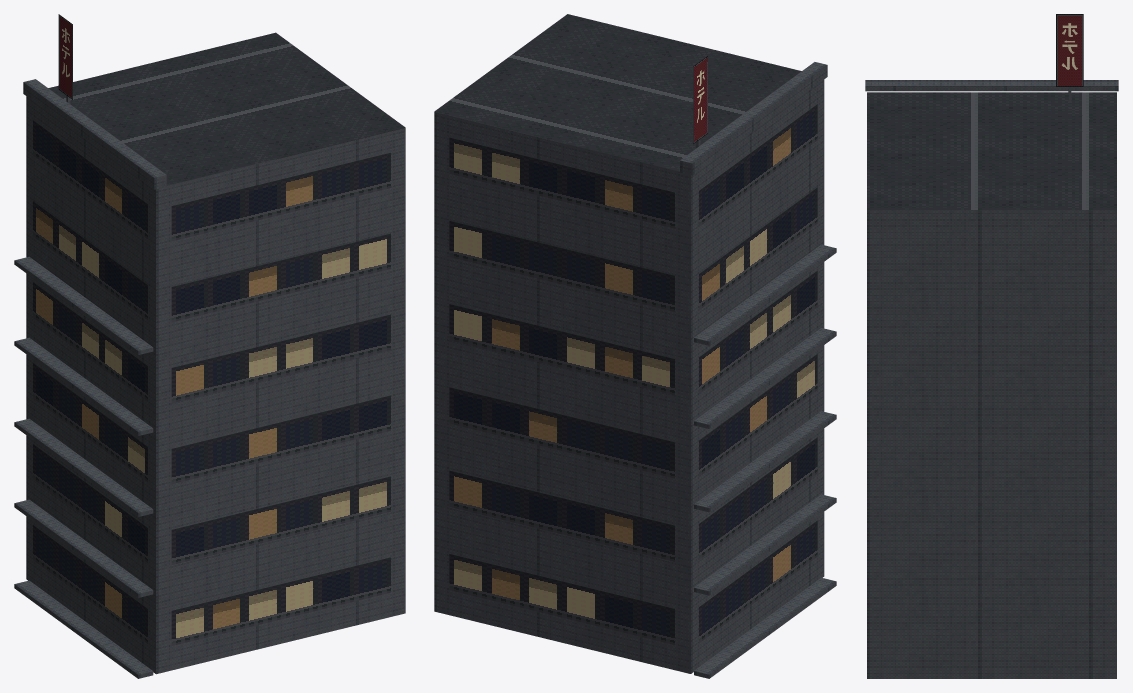
File: mtn_block_dn_a.glb
3 views of the same model, side by side, from view 1: azimuth 30°, elevation 25°; view 2: azimuth 150°, elevation 25°; view 3: azimuth 270°, elevation 25° (orthographic). The views are drawn at different scales.
Visible parts, largest first — view 1: mtn_block_dn_a; view 2: mtn_block_dn_a; view 3: mtn_block_dn_a.
Part boxes in pixels (box(x1,y1,x2,y2)): mtn_block_dn_a: box(14, 14, 405, 678); mtn_block_dn_a: box(434, 14, 836, 678); mtn_block_dn_a: box(865, 14, 1118, 678).
Size of the model in its own units: 10.6 by 22.12 by 9.1.
4 materials, 4 textured.
